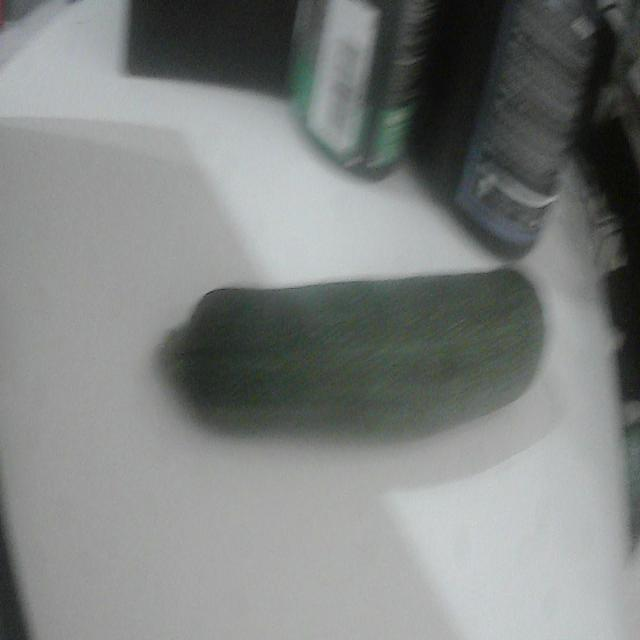Courgette: (162, 268, 544, 440)
